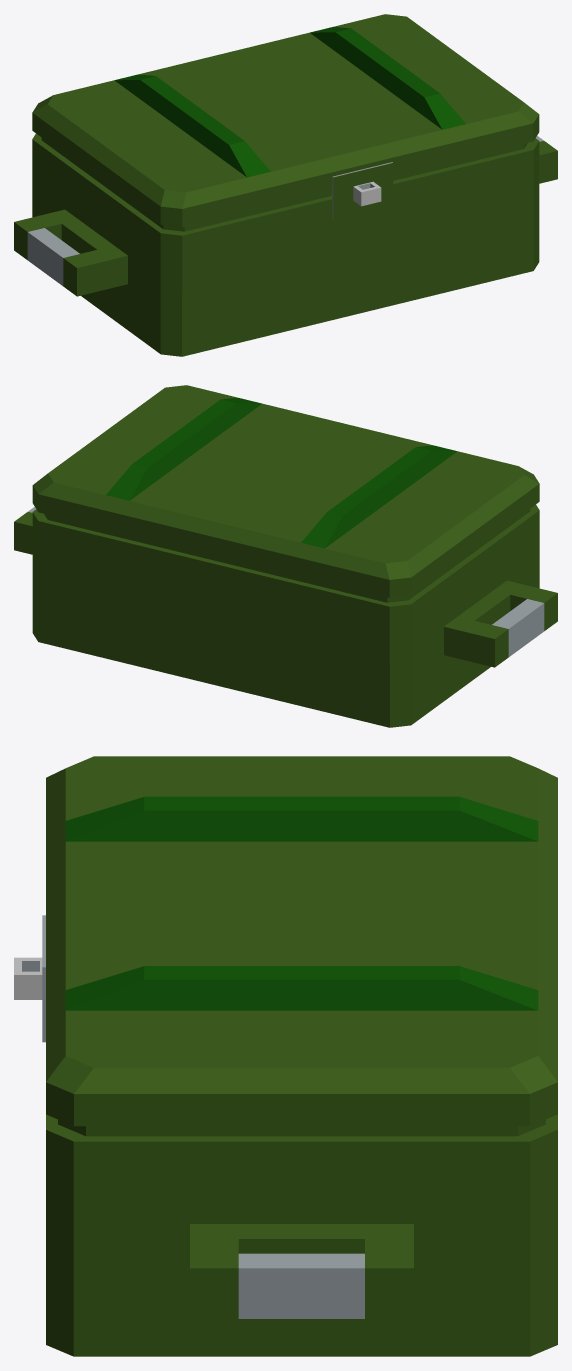
File: Ammo Crate.fbx
The picture shows the model from 3 angles, top to bottom: view 1: azimuth 30°, elevation 25°; view 2: azimuth 150°, elevation 25°; view 3: azimuth 270°, elevation 25°; orthographic projection. The views are drawn at different scales.
Visible parts, largest first — view 1: Ammo Crate; view 2: Ammo Crate; view 3: Ammo Crate.
Part boxes in pixels (box(x1,y1,x2,y2)): Ammo Crate: box(14, 14, 557, 356); Ammo Crate: box(14, 385, 557, 727); Ammo Crate: box(14, 756, 557, 1356).
Size of the model in its own units: 254 by 87.56 by 140.
Materials: 3 (3 with a texture image).
